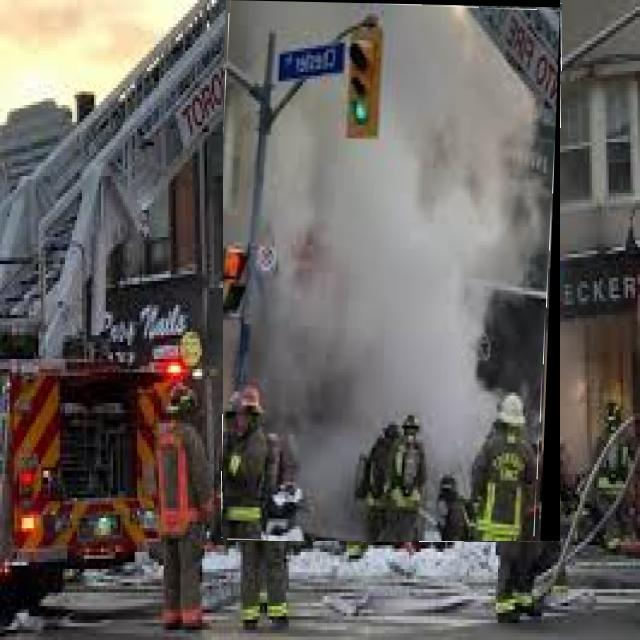smoke: (387, 8, 544, 288), (266, 139, 385, 438), (358, 289, 500, 424), (296, 441, 364, 540)
